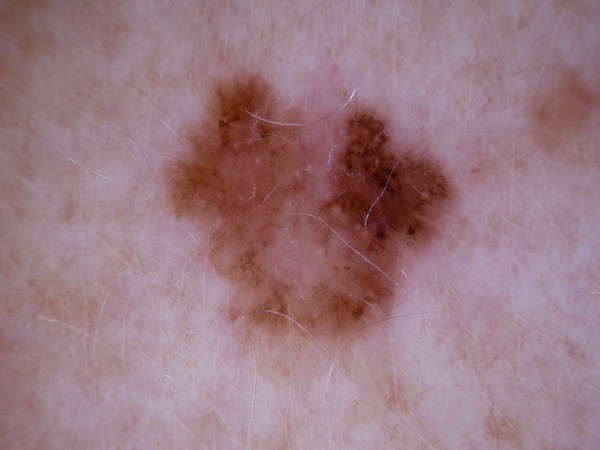Detected Lesion: (160, 72, 465, 345)
